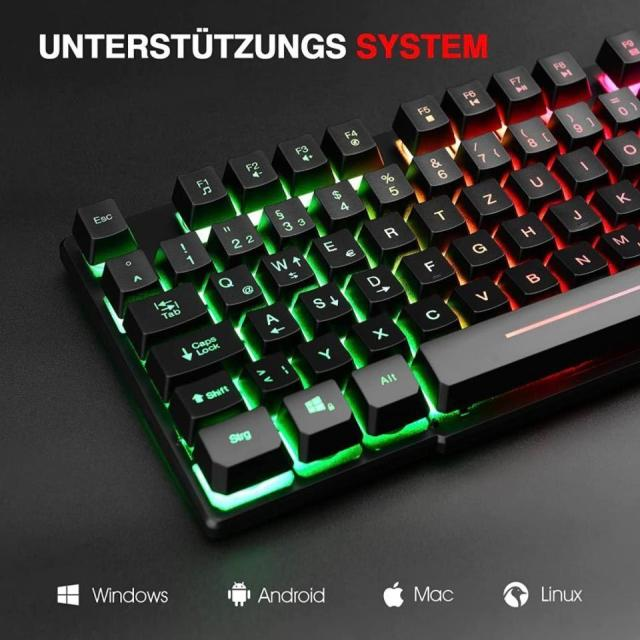0: (597, 83, 637, 123)
1: (159, 229, 211, 273)
2: (211, 210, 263, 255)
3: (262, 193, 315, 239)
4: (314, 176, 365, 220)
5: (363, 160, 414, 204)
6: (412, 143, 463, 186)
7: (461, 126, 511, 170)
8: (508, 110, 557, 153)
9: (553, 96, 602, 138)
a: (245, 299, 300, 341)
alt-left: (350, 352, 421, 408)
b: (498, 256, 560, 294)
c: (399, 293, 460, 333)
caret: (105, 247, 158, 291)
d: (347, 262, 406, 302)
e: (310, 225, 368, 269)
f: (399, 244, 457, 284)
g: (447, 226, 506, 267)
h: (498, 208, 554, 248)
i: (553, 143, 608, 180)
j: (545, 193, 603, 233)
k: (595, 176, 638, 213)
keyboard: (51, 20, 639, 553)
less: (241, 350, 301, 392)
m: (597, 220, 639, 259)
n: (549, 239, 608, 275)
o: (601, 128, 639, 167)
q: (205, 262, 264, 308)
r: (362, 209, 418, 250)
s: (294, 278, 354, 322)
shift-left: (172, 366, 243, 418)
shift-lock: (146, 315, 243, 377)
space: (424, 259, 636, 389)
strg-left: (195, 404, 283, 469)
t: (411, 192, 466, 232)
tab: (124, 280, 209, 335)
u: (508, 159, 561, 198)
v: (451, 275, 510, 312)
w: (260, 246, 315, 286)
x: (351, 312, 406, 350)
y: (295, 330, 353, 372)
z: (459, 175, 515, 215)
